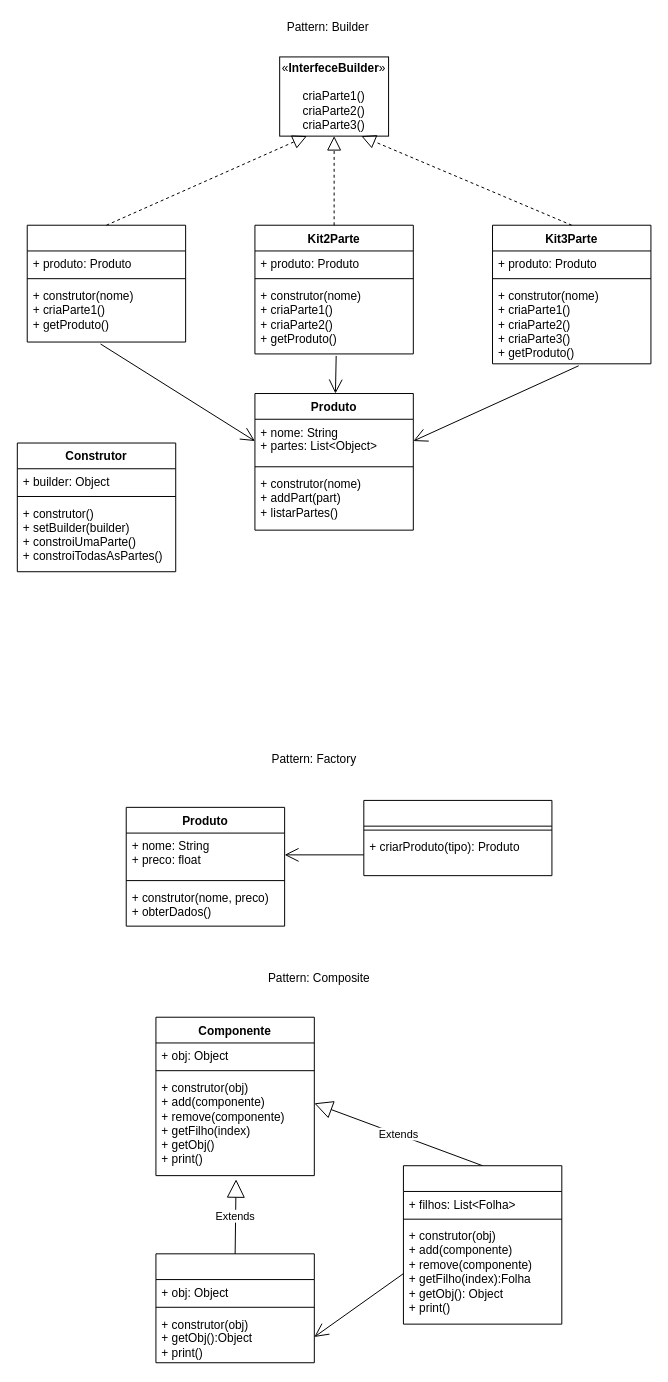
Some shapes in this 668 by 1382 pixel diagram are drawn without their labels. Here are the shapes that lost their labels. From the top down, the box of each, then its label:
(26, 224, 186, 342): Kit1Parte
(363, 799, 552, 876): ProdutoFactory
(402, 1165, 562, 1324): Composite
(155, 1253, 314, 1363): Folha
